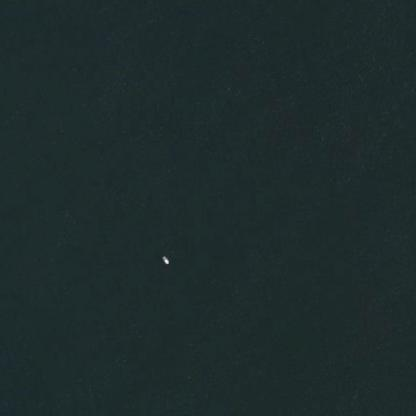ship: (154, 249, 174, 269)
